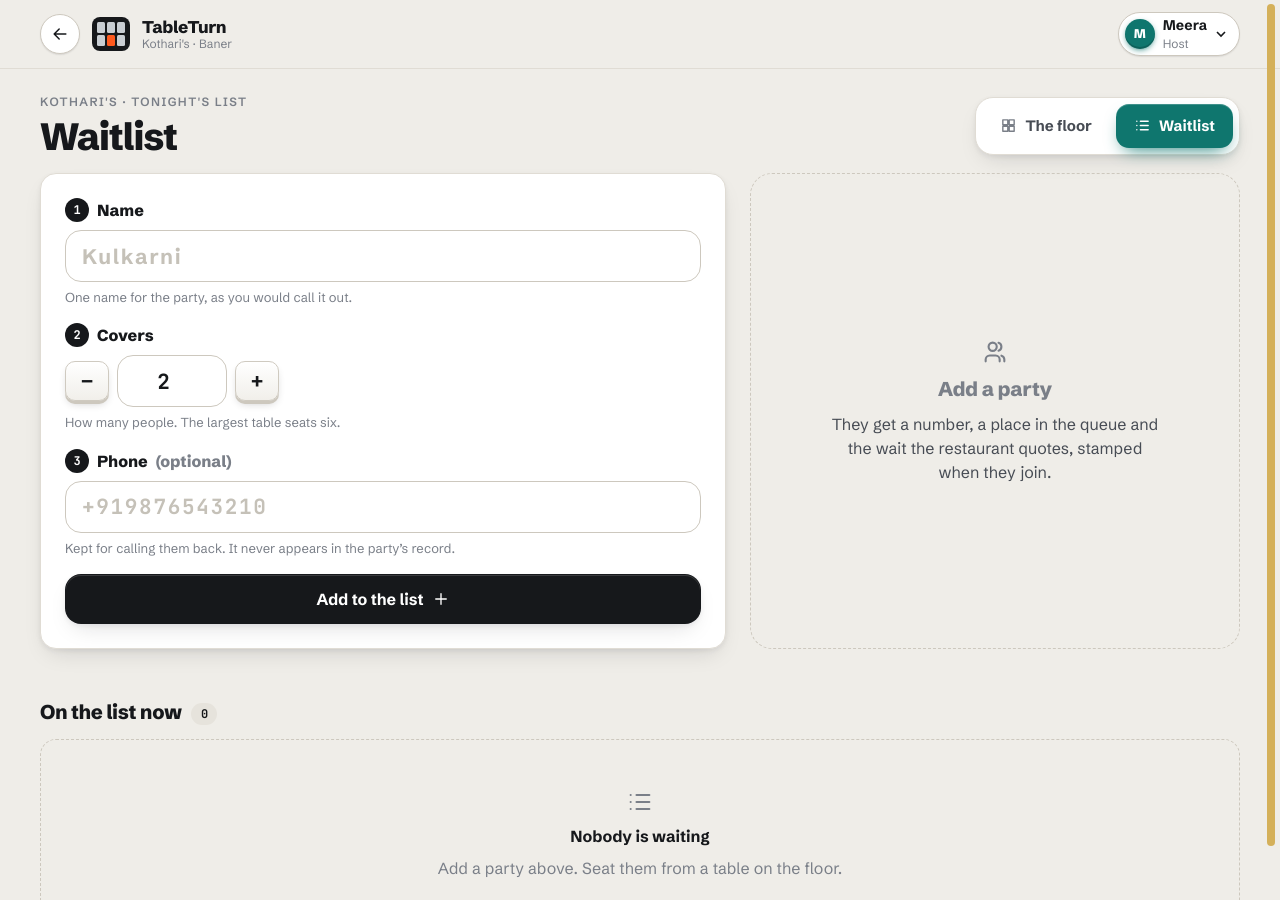
Scenario: F-05 · A party joins the list › with Name empty, "Add to the list" puts "Type the party’s name first." under Name and in the panel, and adds nobody
This screenshot has width=1280, height=900.
Step 1. Click the button "Add to the list" → (383, 599), box x1=65 y1=574 x2=701 y2=624
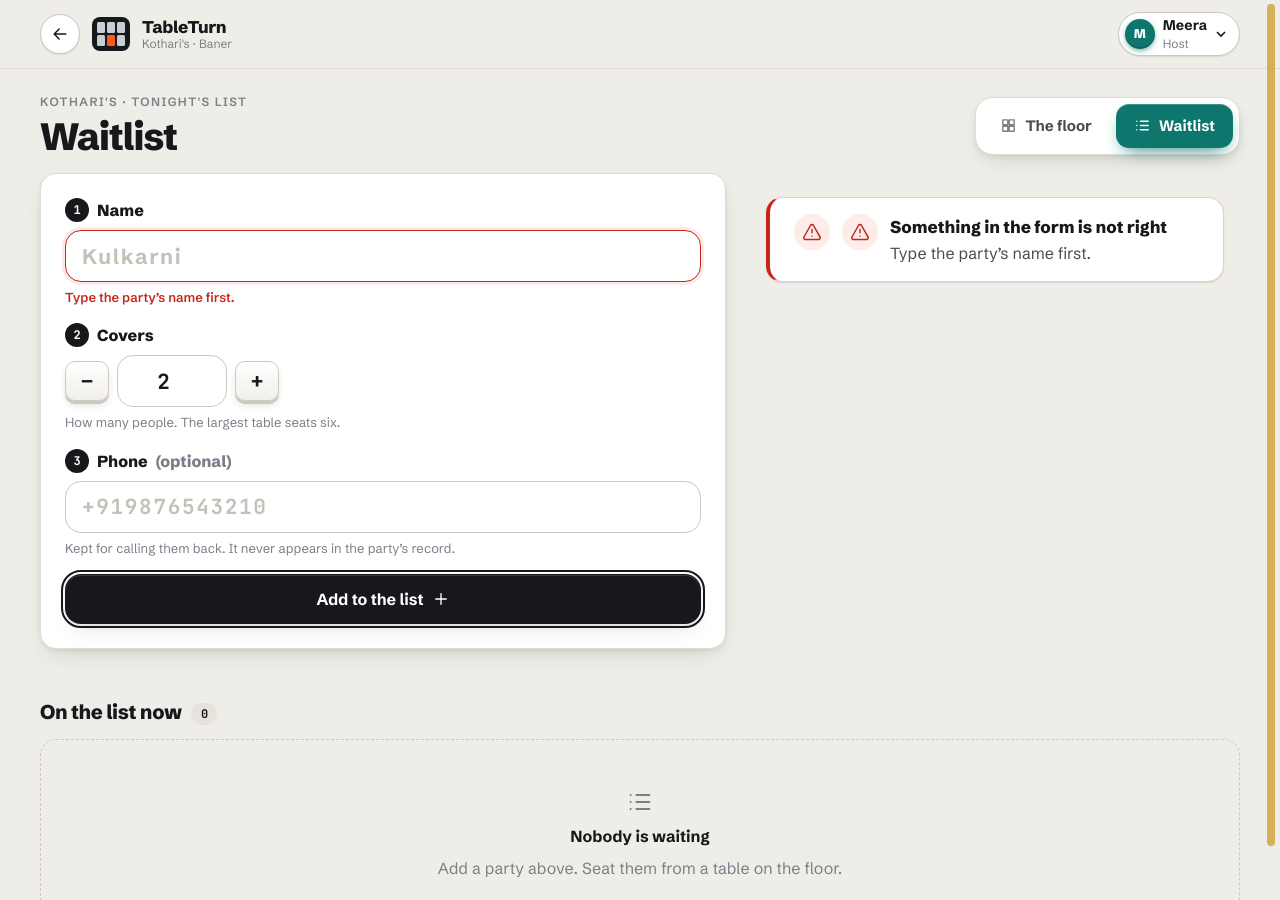
expect the text "Type the party’s name first." is shown 2 times: met, box x1=65 y1=289 x2=234 y2=305; x1=890 y1=243 x2=1091 y2=263
expect the text "One name for the party, as you would call it out." is gone: met
expect the text "Something in the form is not right" is shown: met, box x1=890 y1=214 x2=1167 y2=239
